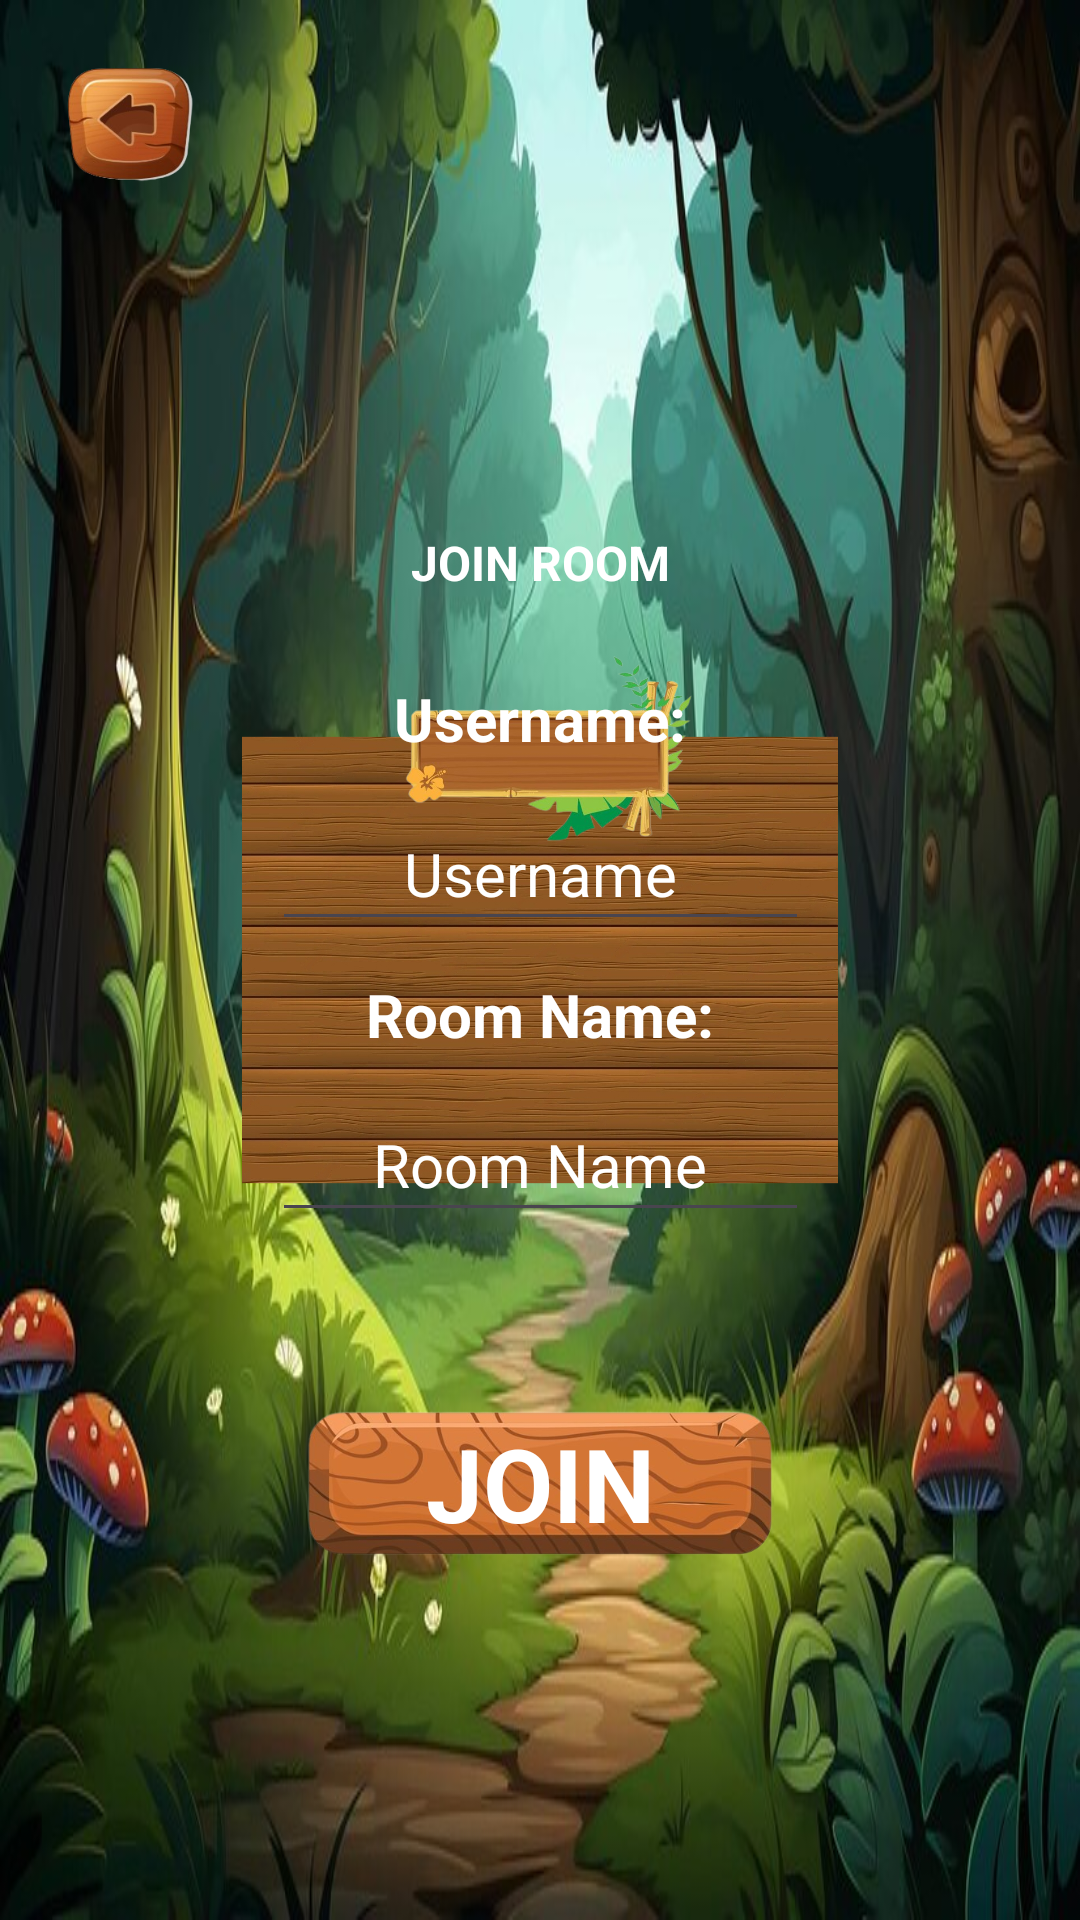

Locate icon controls on the screen. Image size 1080x1920, boxes as (x1, y1, x2, y2).
go back: (50, 48, 207, 195)
